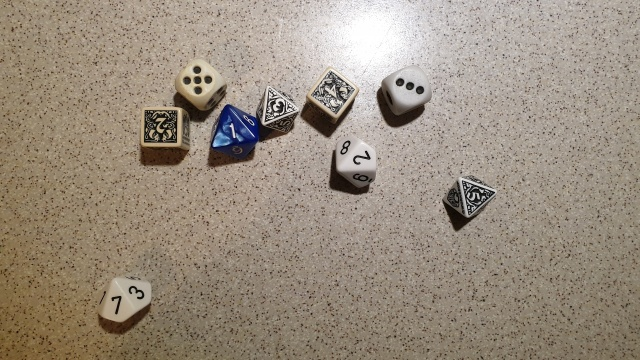d10-1: (205, 101, 263, 165)
d10-2: (327, 131, 382, 194)
d10-7: (87, 270, 158, 325)
d6-3: (378, 59, 434, 115)
d6-5: (172, 57, 226, 111)
d6p-2: (138, 104, 194, 152)
d6p-4: (306, 67, 362, 129)
d8p-3: (252, 83, 302, 142)
d8p-5: (438, 168, 501, 228)
